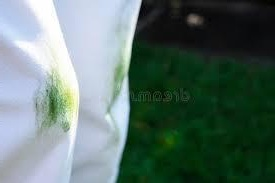earth: (41, 76, 76, 125), (111, 58, 128, 99)
